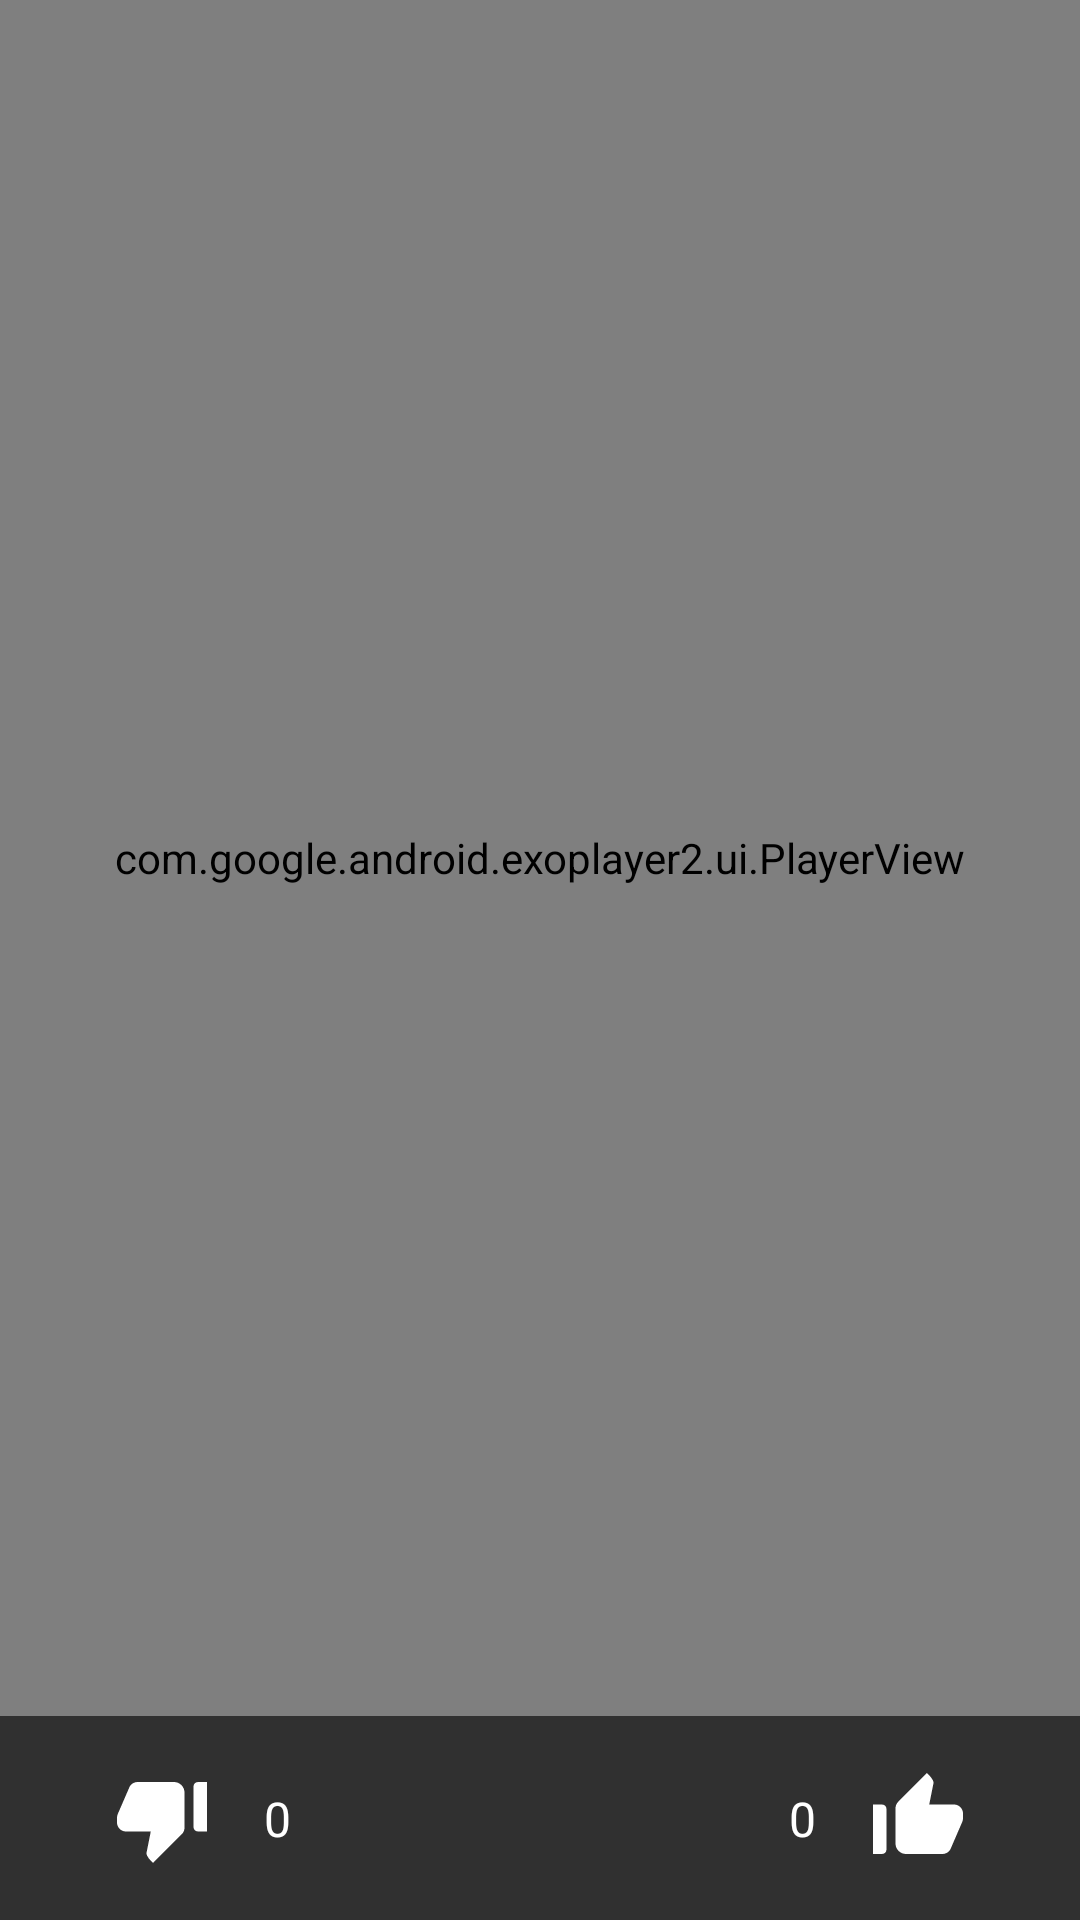

Point at icon controls on the screen. Image size 1080 x 1920, points as (x,y).
down vote: (162,1822)
up vote: (918,1813)
